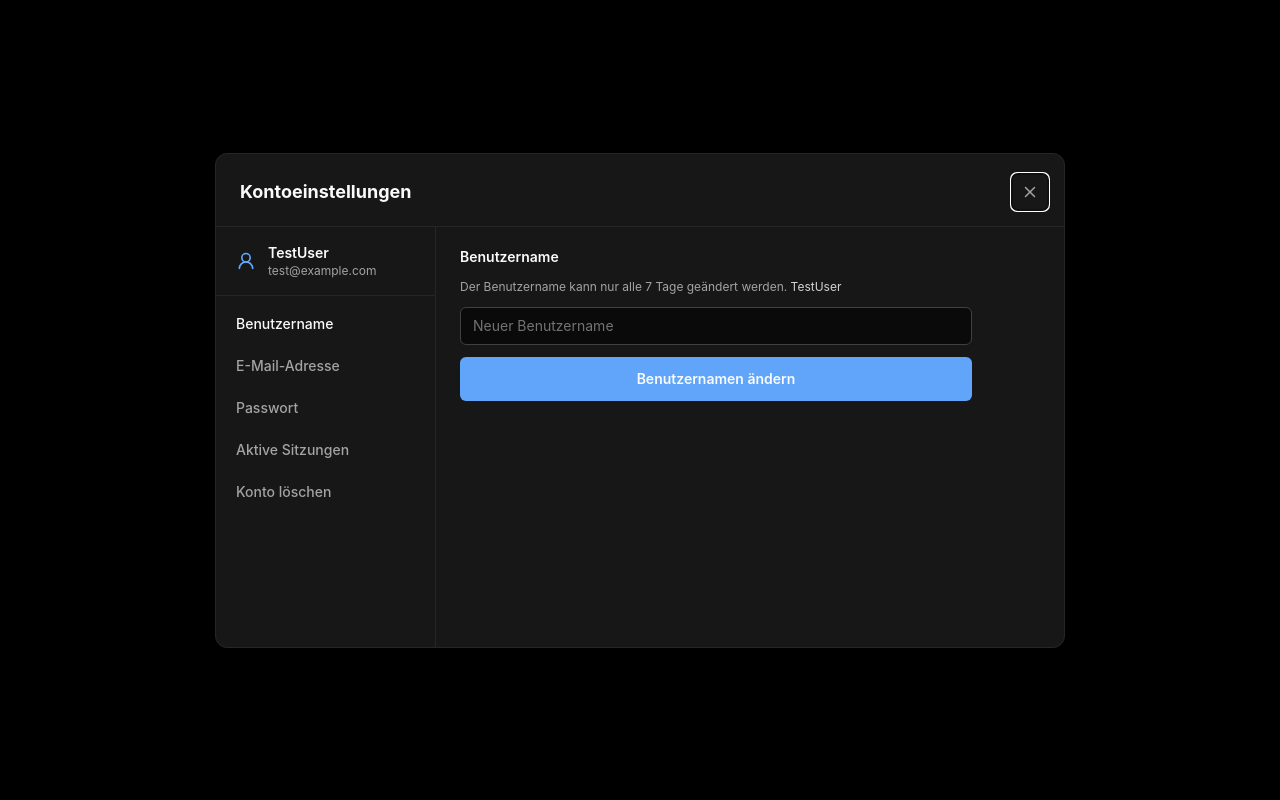
Scenario: AccountSettingsModal › reports a taken username
Step 1. Type "vergeben" into the field labelled "Neuer Benutzername" → (716, 326), box [460,306,972,344]
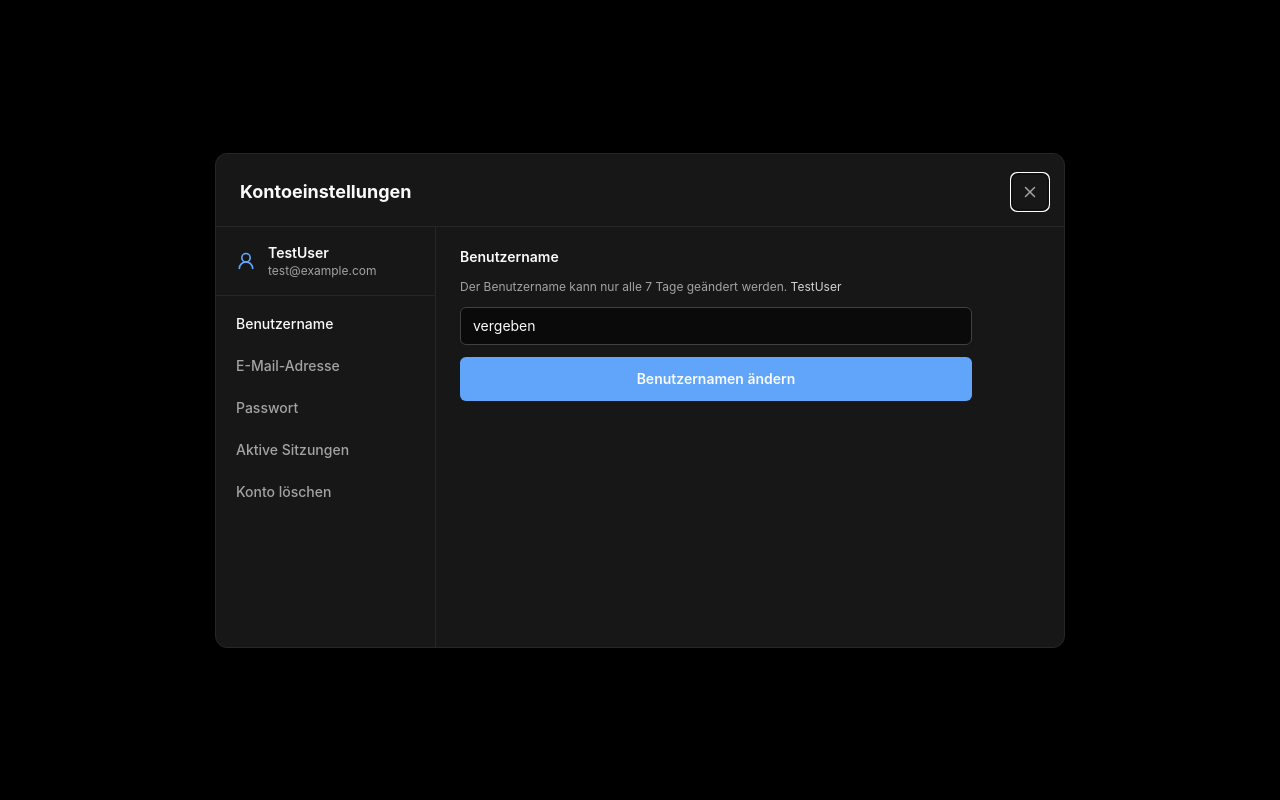
Step 2. Click the button "Benutzernamen ändern" → (716, 378), box [460,356,972,400]
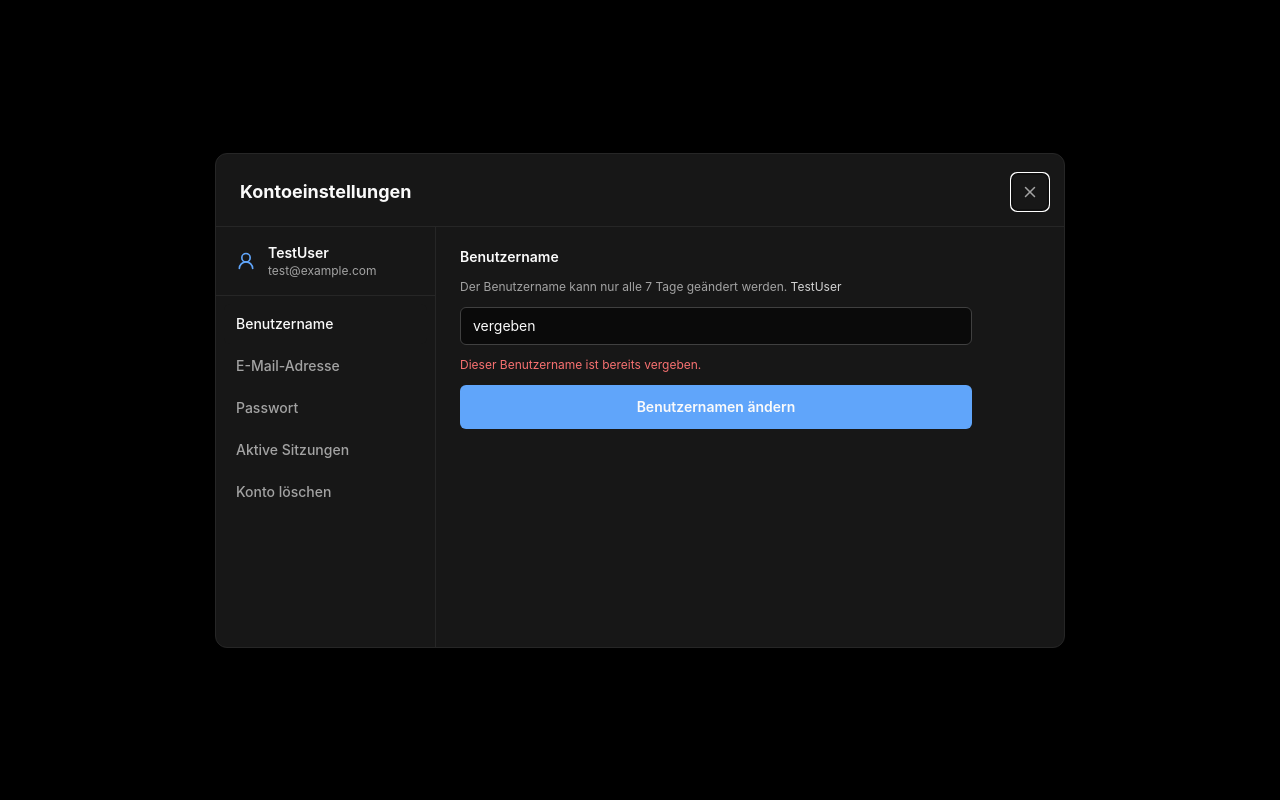
Expected: the text "Dieser Benutzername ist bereits vergeben." is shown, [460,356,701,372]
